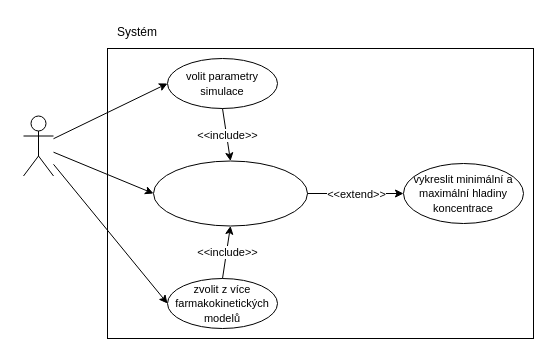
Some shapes in this 551 by 356 pixel diagram are drawn without their labels. Here are the shapes that lost their labels. From the top down, the centre of each, then its label:
(38,145): Uživatel
(230,193): spočítat a vizualizovat vývoj koncentrace v čase
